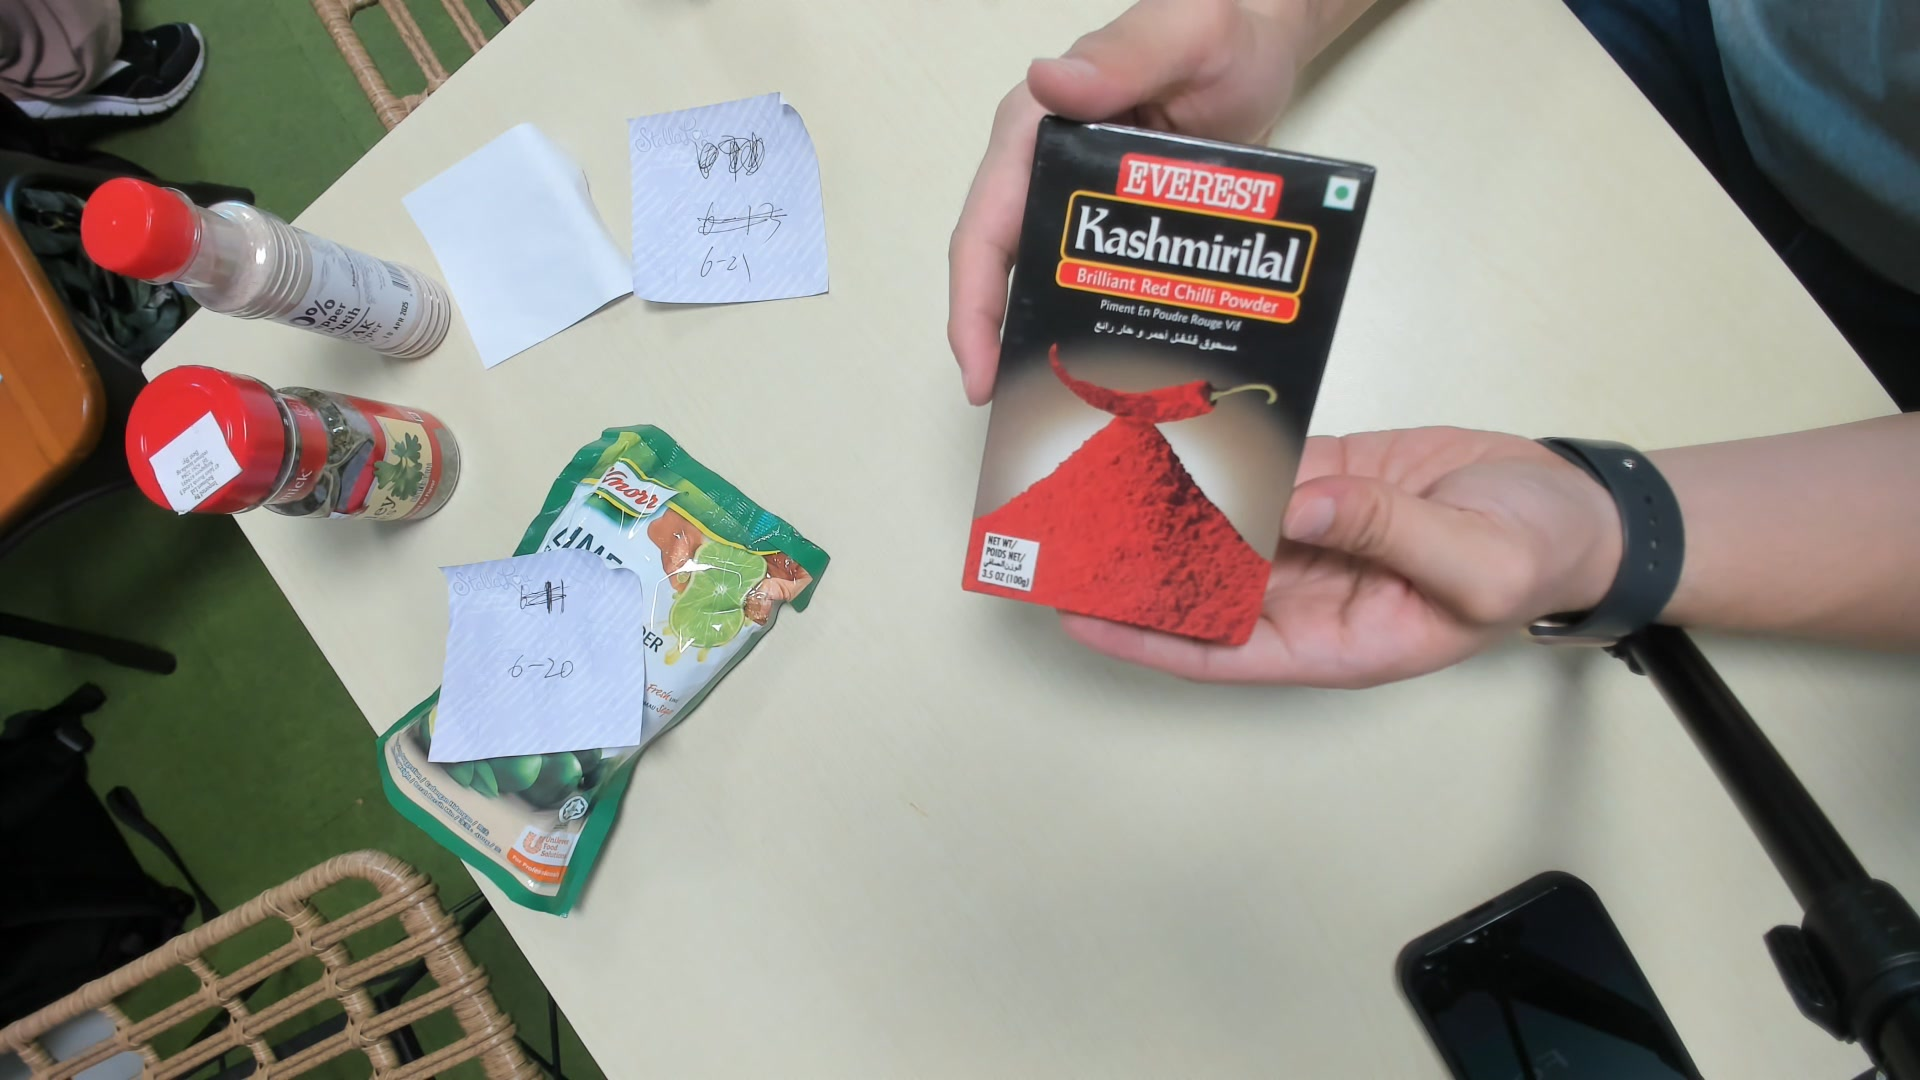HerbsSpicesPepper_100-199g_NonHalal_NonHealthy: (955, 113, 1383, 649)
